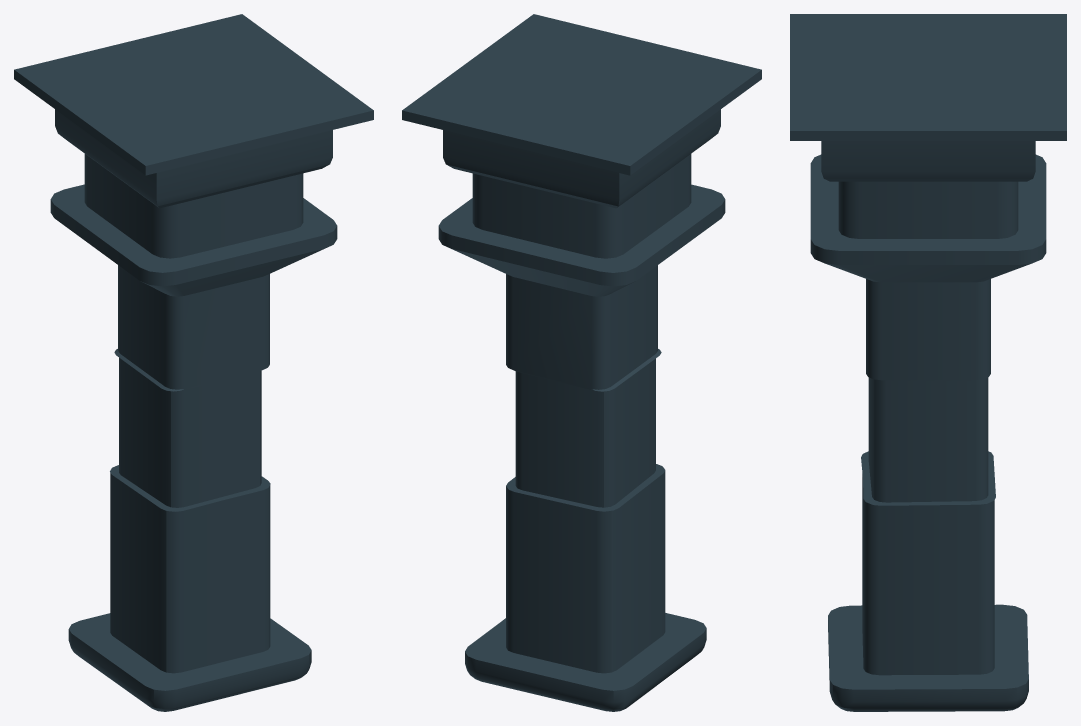
File: emre2.fbx
3 views of the same model, side by side, from view 1: azimuth 30°, elevation 25°; view 2: azimuth 150°, elevation 25°; view 3: azimuth 270°, elevation 25° (orthographic). The views are drawn at different scales.
Visible parts, largest first — view 1: Plane.001; view 2: Plane.001; view 3: Plane.001.
Part boxes in pixels (x1,y1,x2,y2): Plane.001: (14, 14, 373, 711); Plane.001: (402, 14, 761, 711); Plane.001: (790, 14, 1066, 711).
Size of the model in its own units: 200 by 482 by 200.
